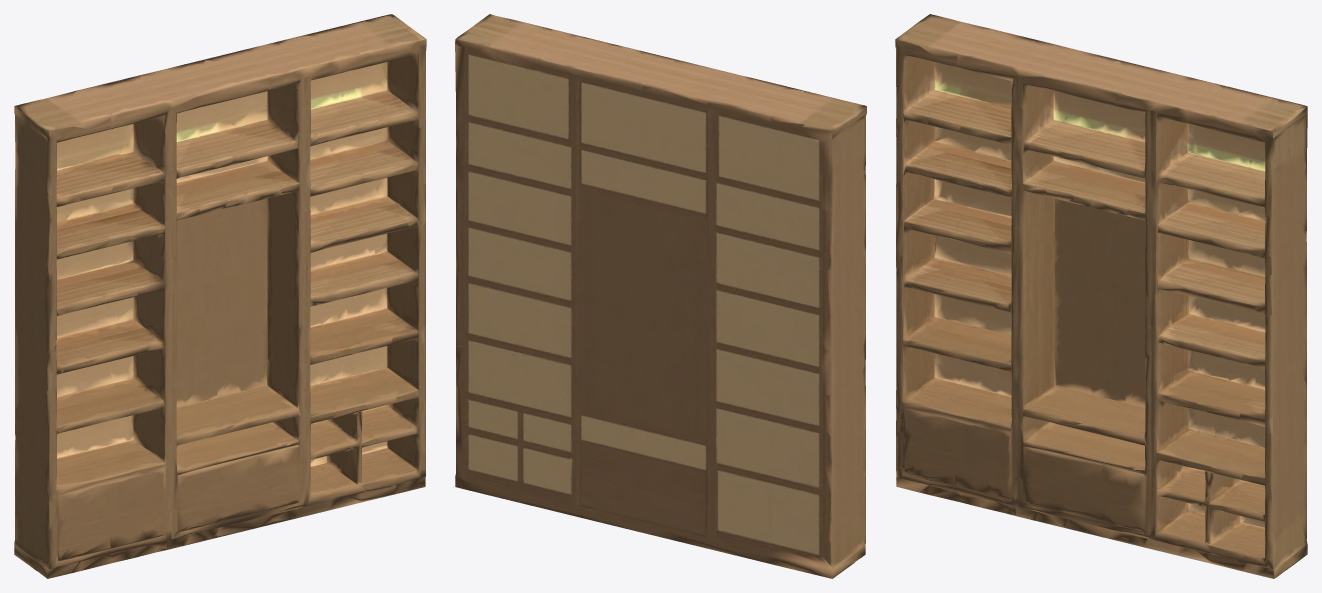
The model's file is Bedroom Bookshelf.glb.
3 views of the same model, side by side, from view 1: azimuth 30°, elevation 25°; view 2: azimuth 150°, elevation 25°; view 3: azimuth 330°, elevation 25° (orthographic).
Parts seen in each view (by area): view 1: Mesh_0; view 2: Mesh_0; view 3: Mesh_0.
Boxes of the visible parts, left/top/right/bottom form: Mesh_0: left=14, top=14, right=426, bottom=578; Mesh_0: left=455, top=14, right=866, bottom=578; Mesh_0: left=895, top=14, right=1307, bottom=578.
Size of the model in its own units: 1.76 by 2 by 0.2852.
Materials: 1 (1 with a texture image).
